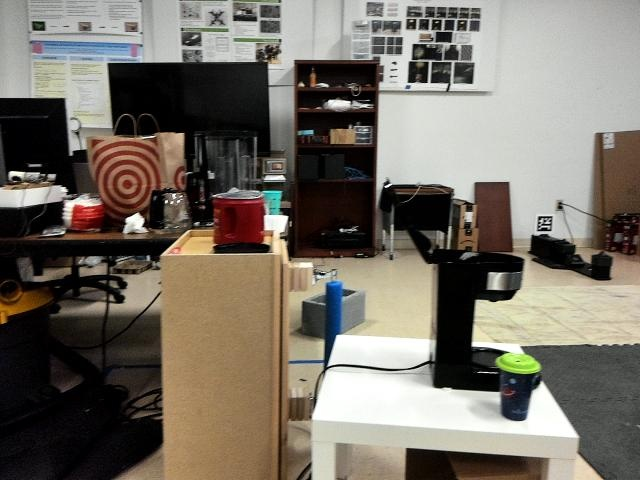coffee_cup: (260, 189, 286, 221)
noodle_handle: (321, 273, 345, 336)
useless_cup: (494, 349, 540, 421)
